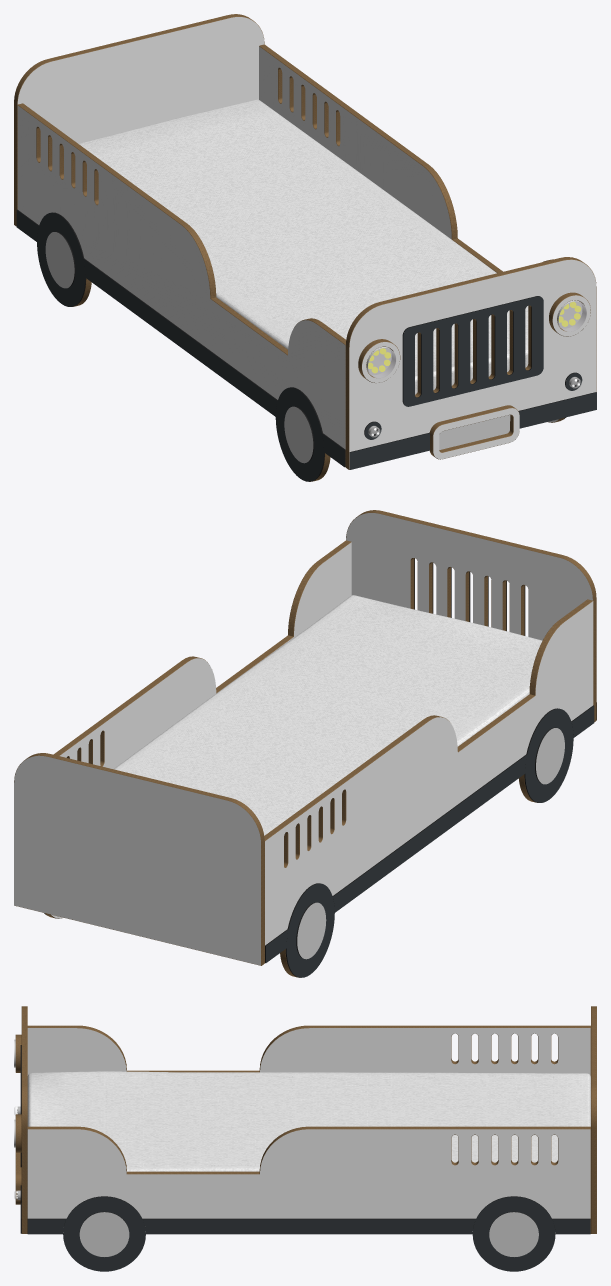
The model's file is Bed170x70.glb.
3 renders of one model, top to bottom at view 1: azimuth 30°, elevation 25°; view 2: azimuth 150°, elevation 25°; view 3: azimuth 270°, elevation 25°, orthographic. The views are drawn at different scales.
Parts seen in each view (by area): view 1: Bed170x70; view 2: Bed170x70; view 3: Bed170x70.
Part boxes in pixels (x1,y1,x2,y2): Bed170x70: [14, 14, 596, 481]; Bed170x70: [14, 510, 596, 977]; Bed170x70: [14, 1006, 596, 1271].
Bounding box in the file's own units: 0.752 × 0.575 × 1.76.
17 materials, 4 textured.
